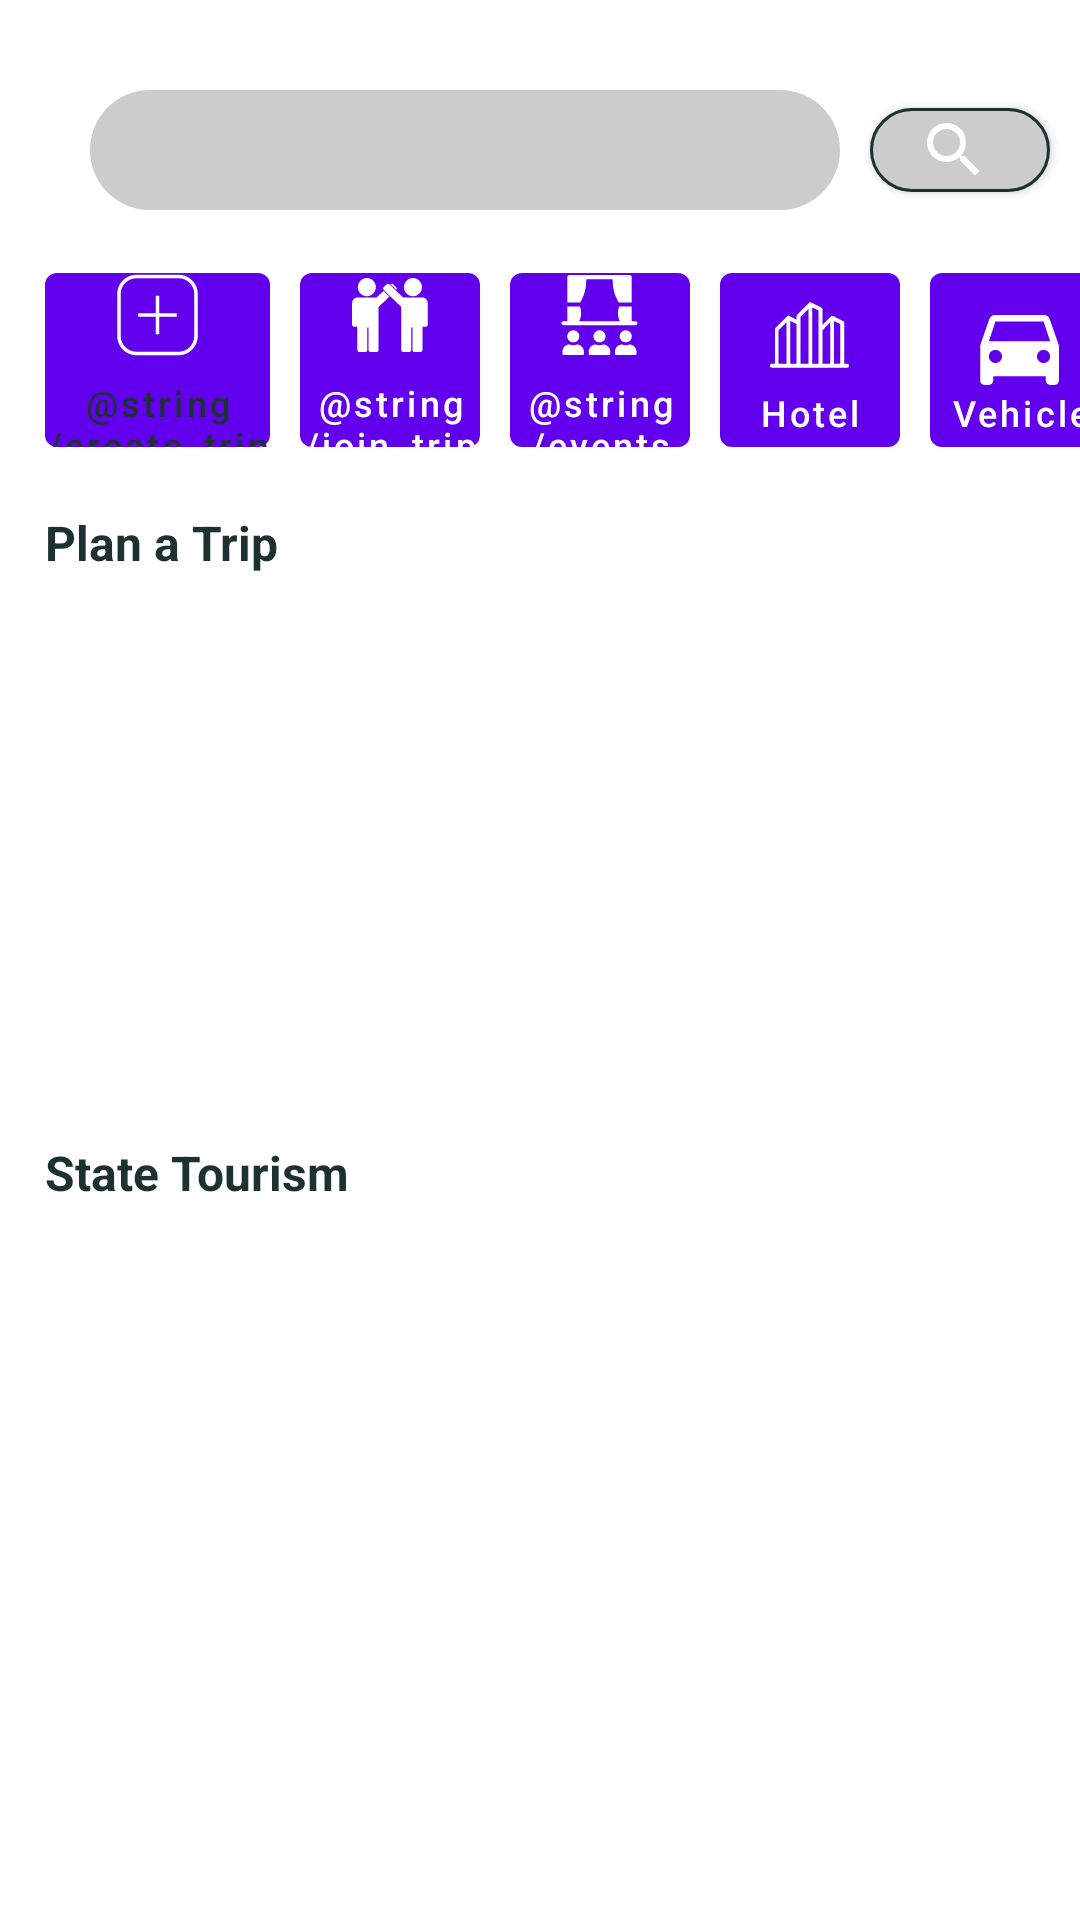

Named icons in this screenshot (1080×1920) and their bounding boxes, (x1, y1, x2, y2):
search: (870, 108, 1050, 192)
